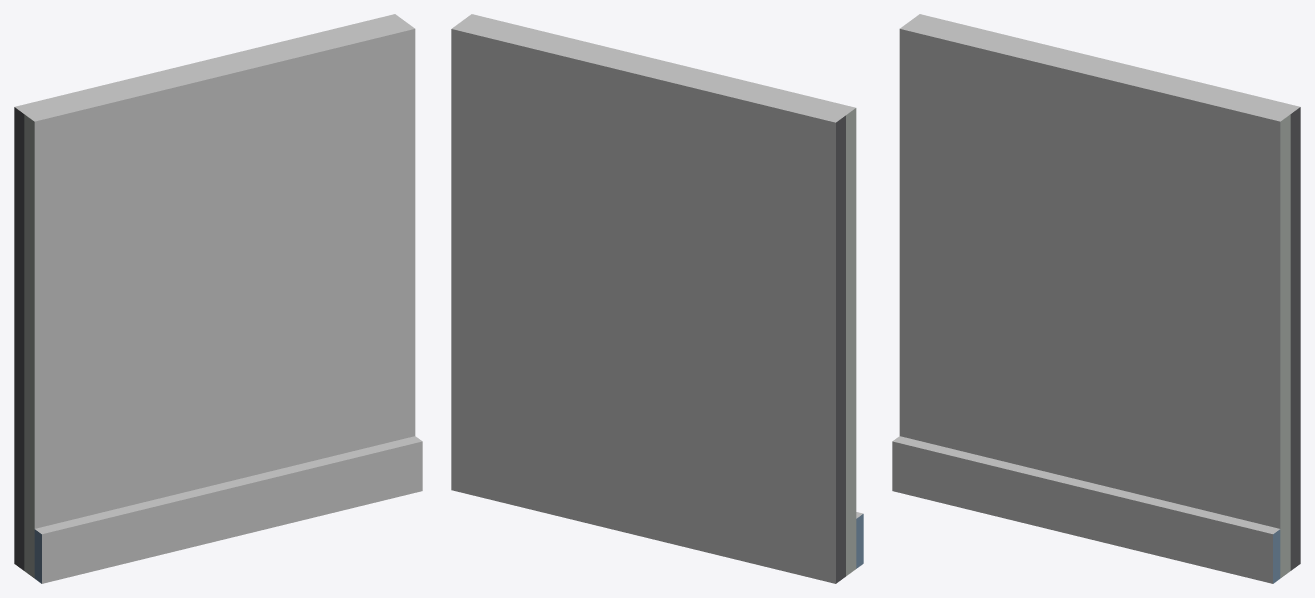
File: Base_Wall_2.fbx
3 renders of one model, left to right at view 1: azimuth 30°, elevation 25°; view 2: azimuth 150°, elevation 25°; view 3: azimuth 330°, elevation 25°, orthographic.
Visible parts, largest first — view 1: Base_Wall_2; view 2: Base_Wall_2; view 3: Base_Wall_2.
Boxes of the visible parts, x1,y1,x2,y2 form: Base_Wall_2: (14,14,422,583); Base_Wall_2: (451,14,863,583); Base_Wall_2: (892,14,1300,583).
Size of the model in its own units: 2.73 by 3.13 by 0.3416.
